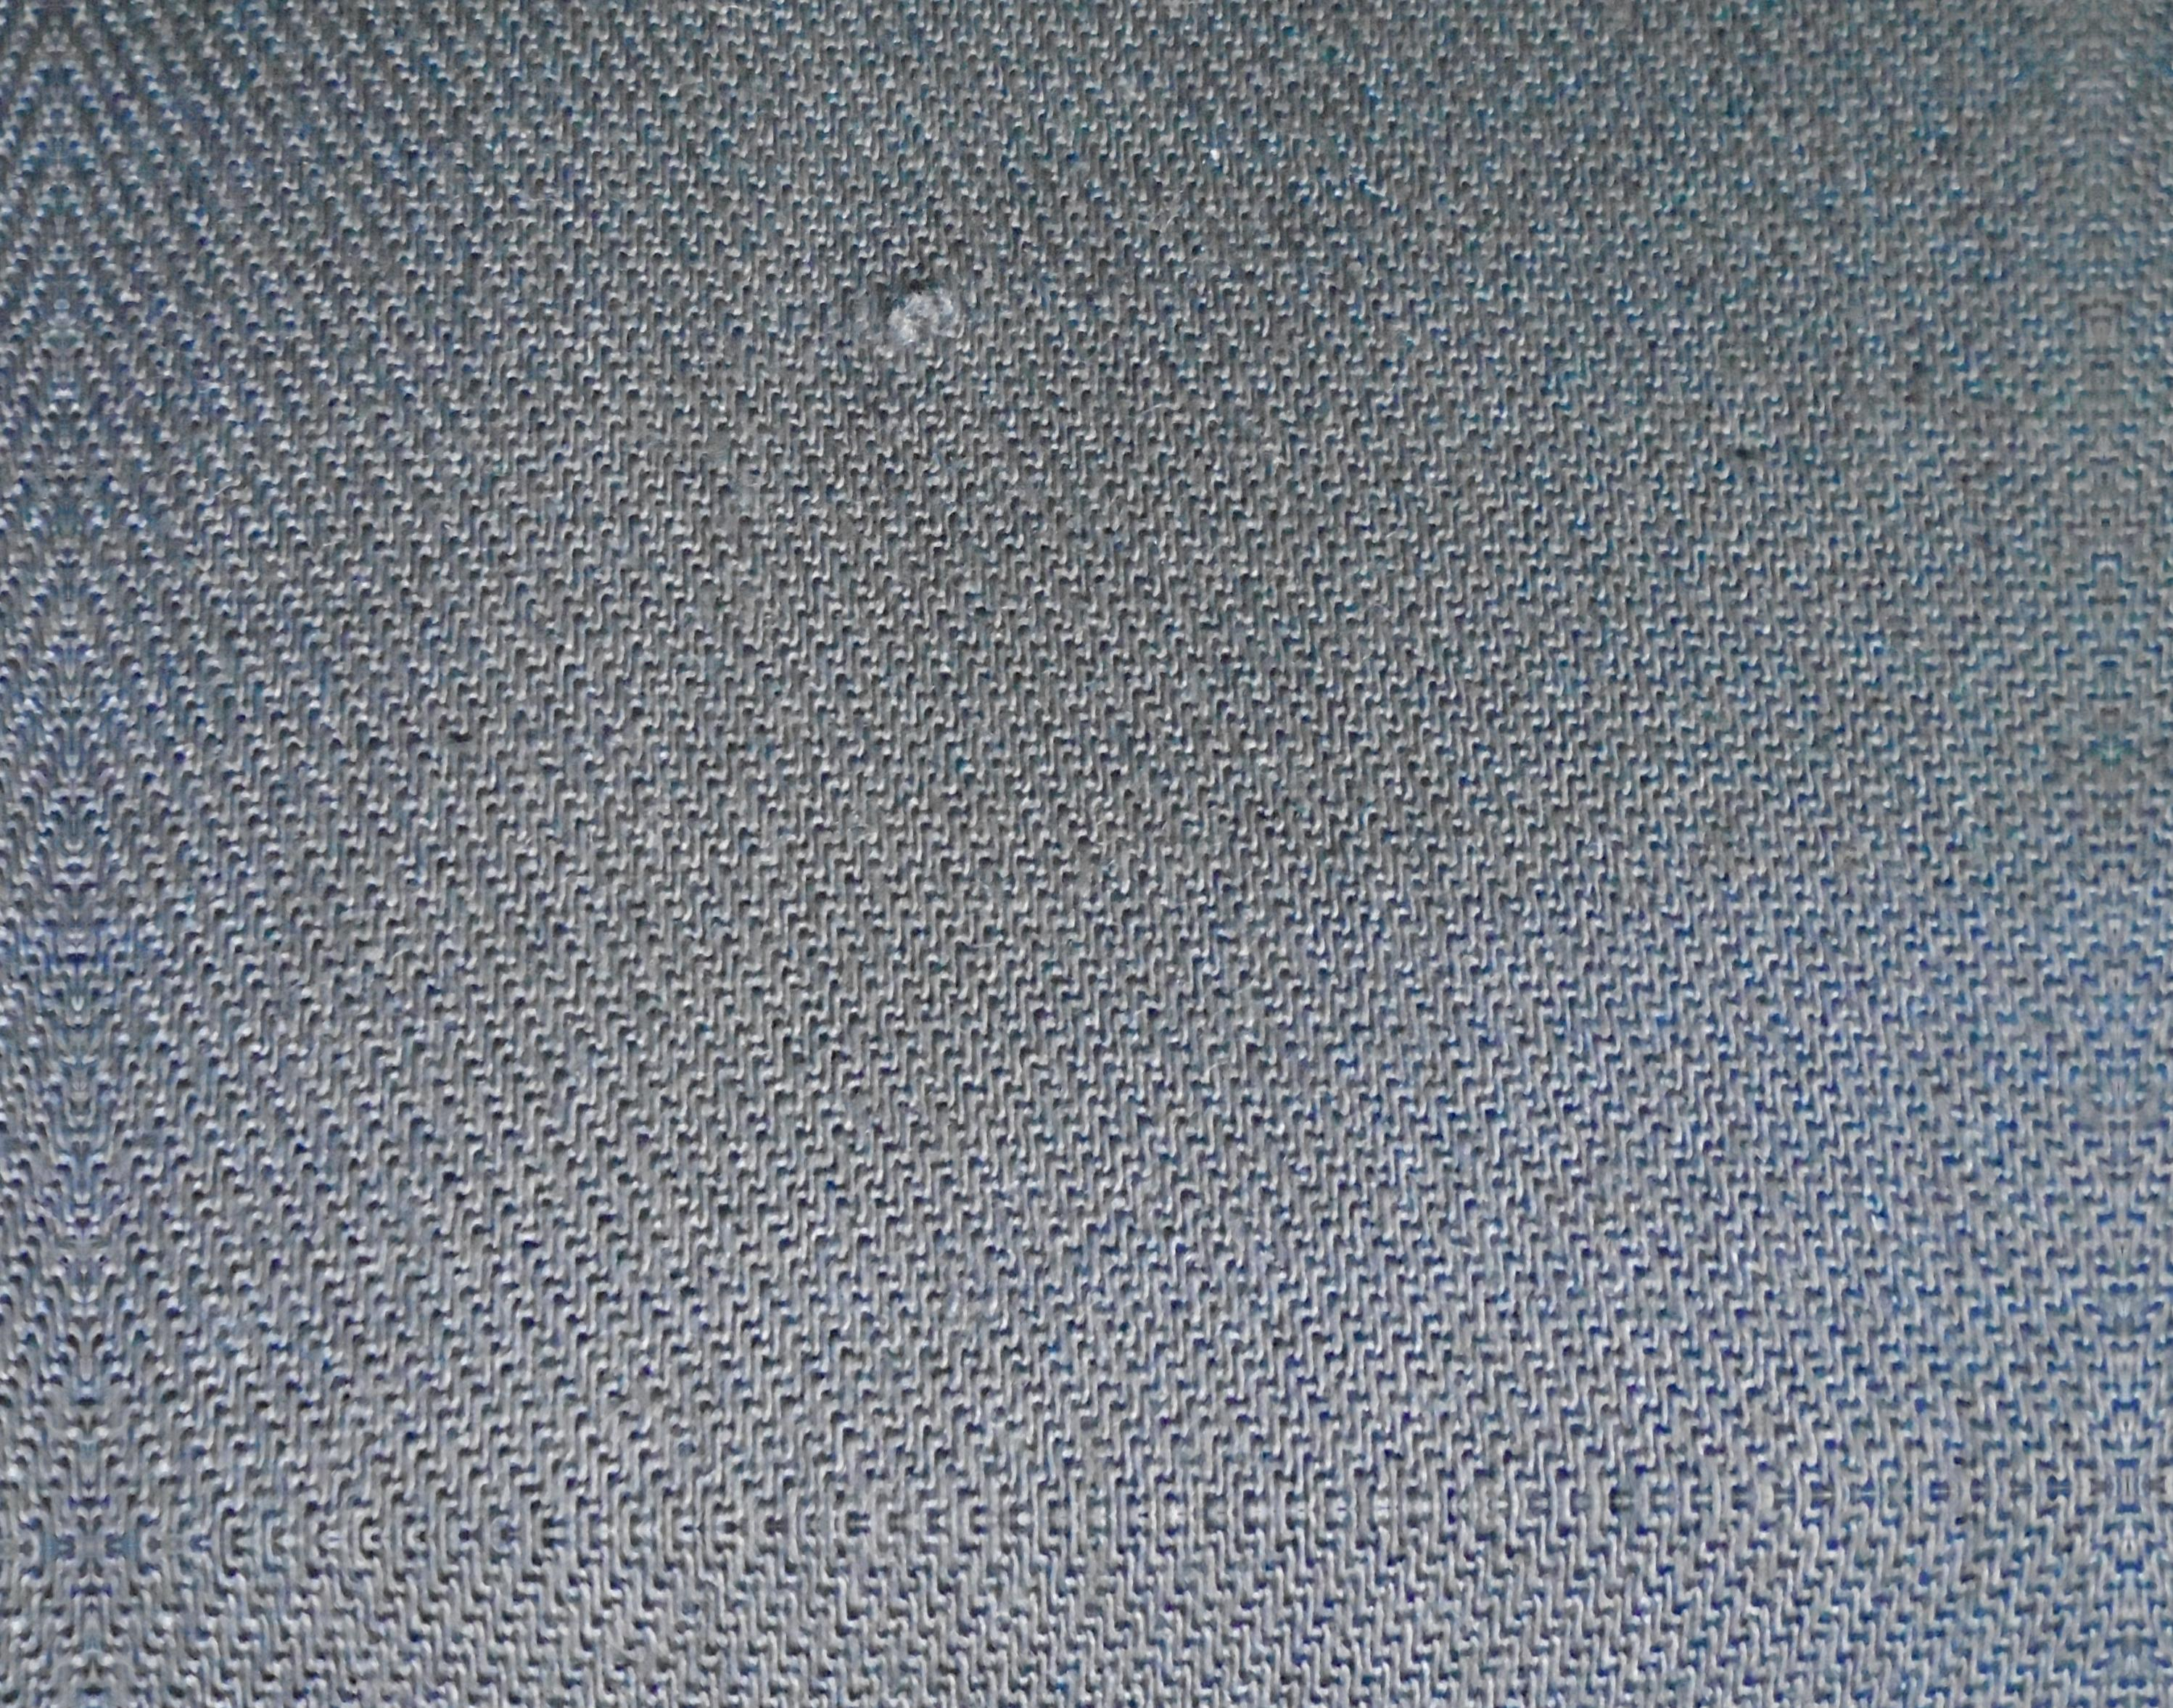knot: (841, 261, 1027, 399)
